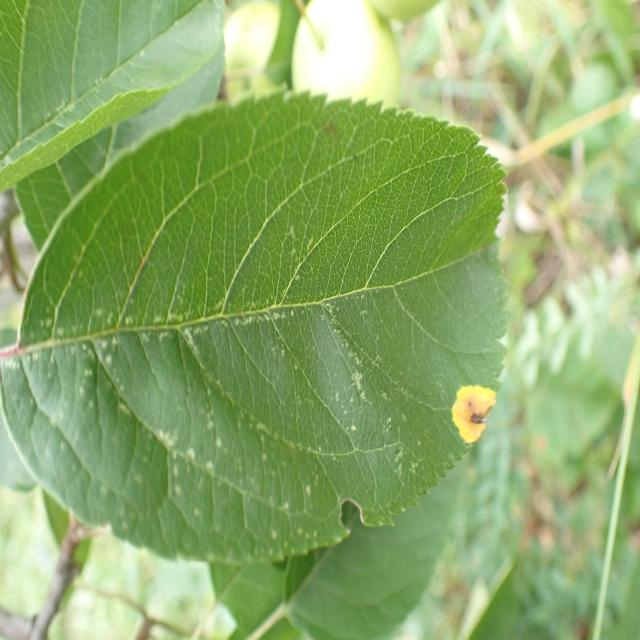rust: (1, 89, 512, 566)
